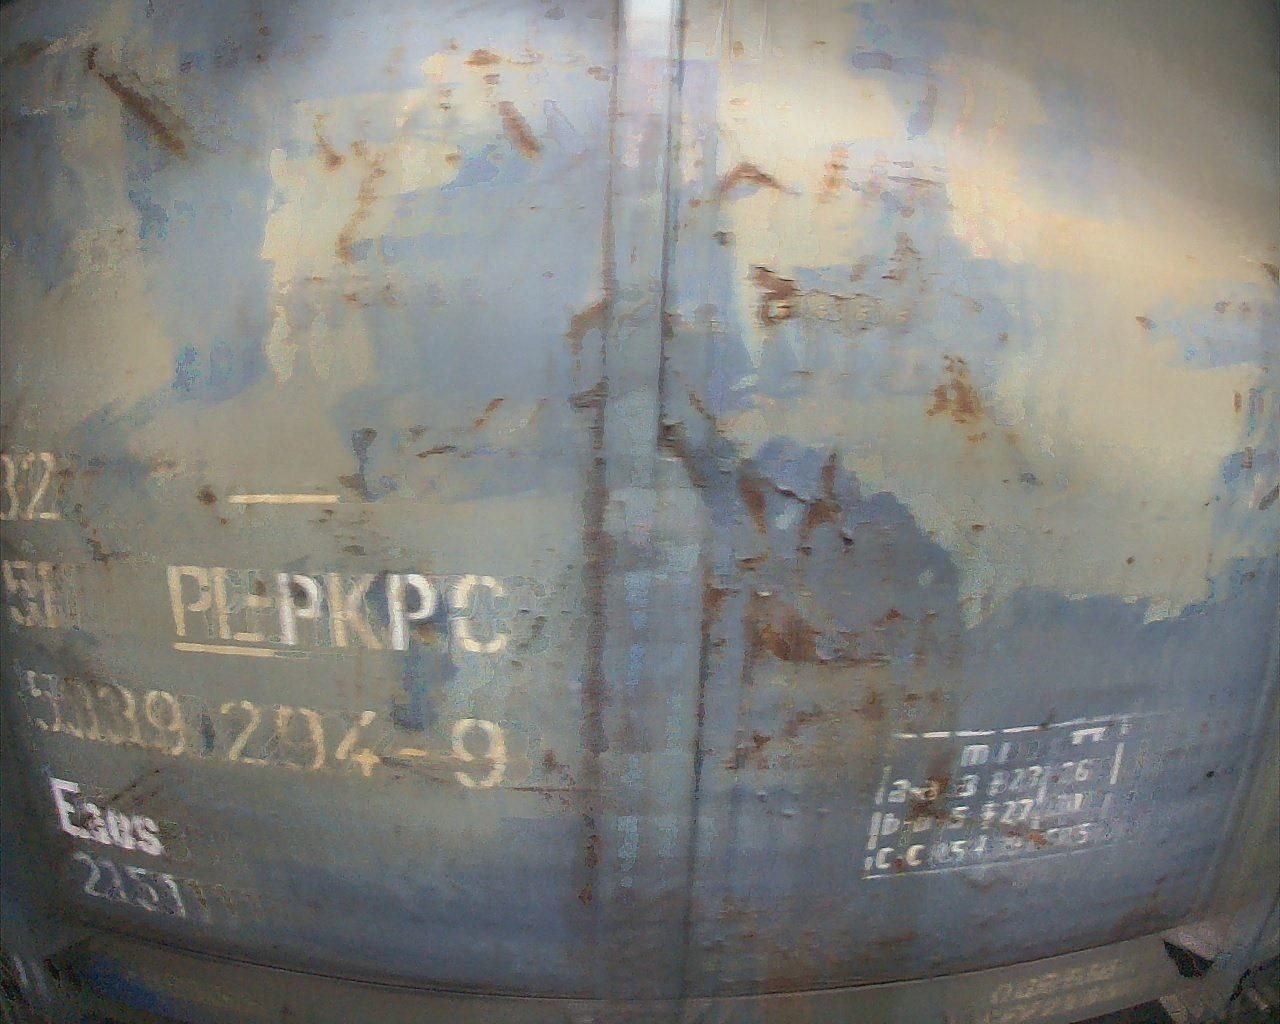UIC: (1, 437, 551, 917)
